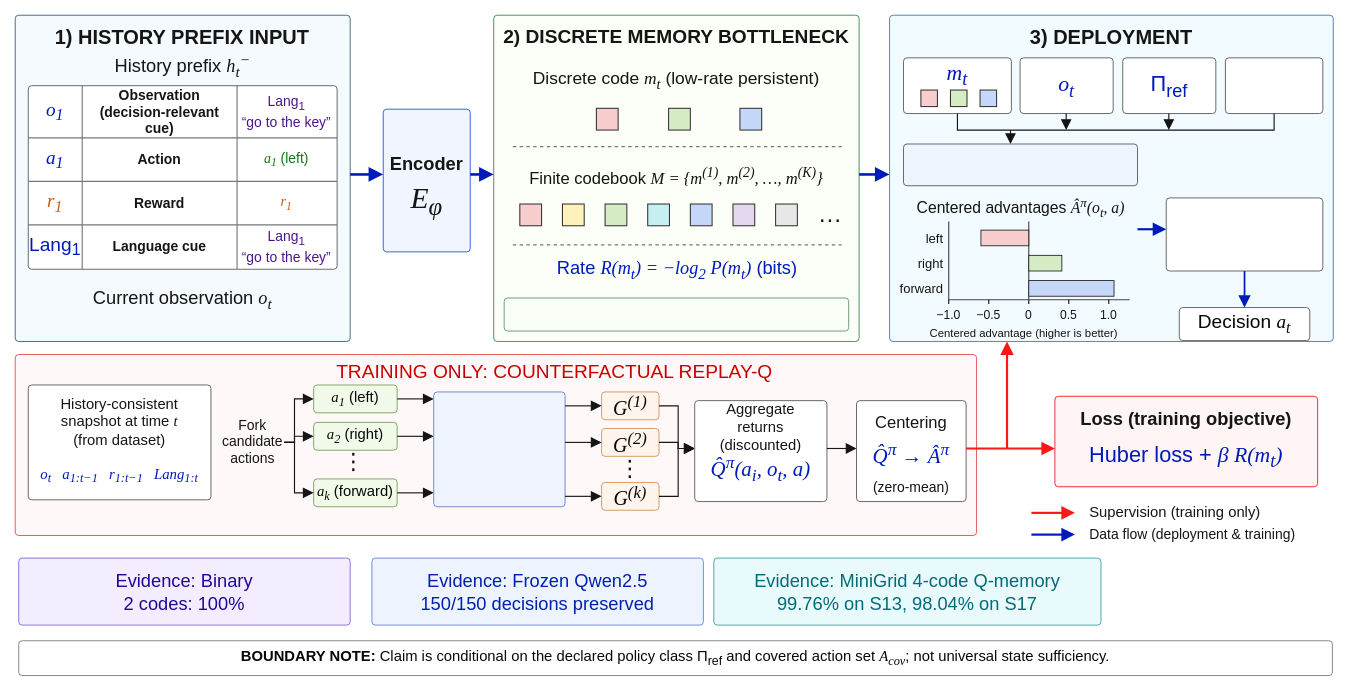
This 1351x691 diagram has some shape labels left out. Each missing label, with the box of its shape:
A cov (o t ): (1225, 57, 1323, 114)
a t = argmax a D ψ (m t , o t , Π ref , A cov ): (1165, 197, 1323, 271)
Decoder D ψ: (903, 143, 1138, 186)
Frozen continuation policy π thereafter (frozen): (433, 391, 565, 507)
same code => similar centered action advantages: (503, 297, 849, 331)
